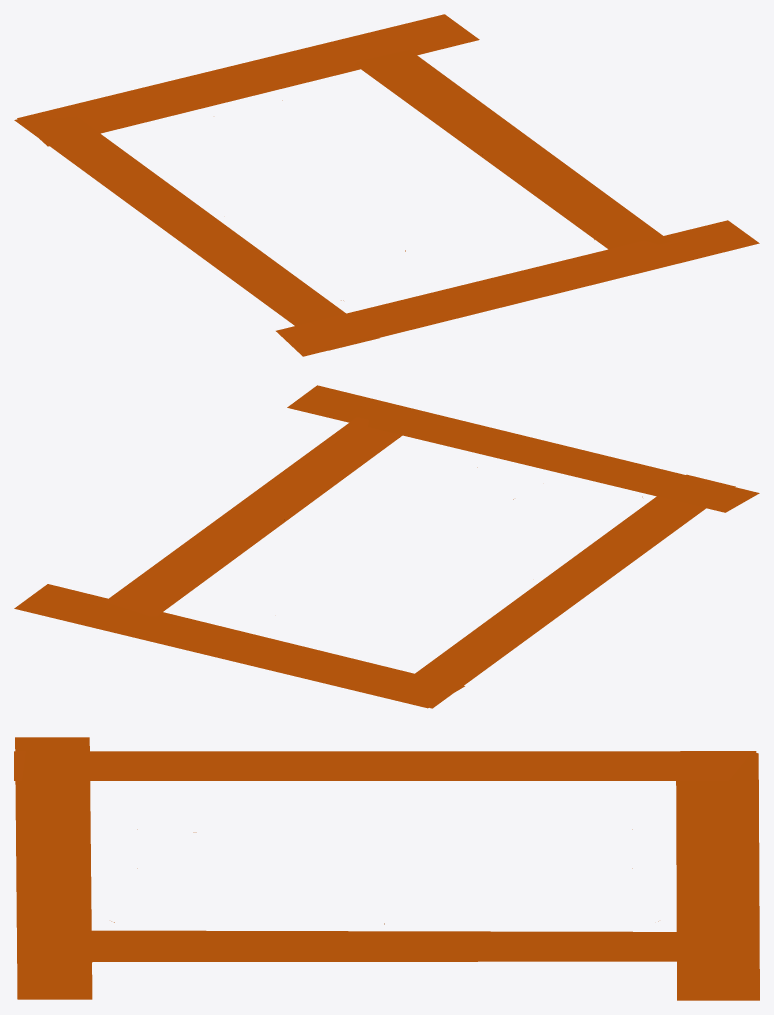
File: runtrack.glb
3 renders of one model, top to bottom at view 1: azimuth 30°, elevation 25°; view 2: azimuth 150°, elevation 25°; view 3: azimuth 270°, elevation 25°, orthographic. The views are drawn at different scales.
Visible parts, largest first — view 1: Lines; view 2: Lines; view 3: Lines.
Part boxes in pixels (x1,y1,x2,y2): Lines: (14,14,759,356); Lines: (14,385,759,708); Lines: (14,737,759,1000).
Size of the model in its own units: 123 by 1.88 by 148.
Materials: 1 (1 with a texture image).
